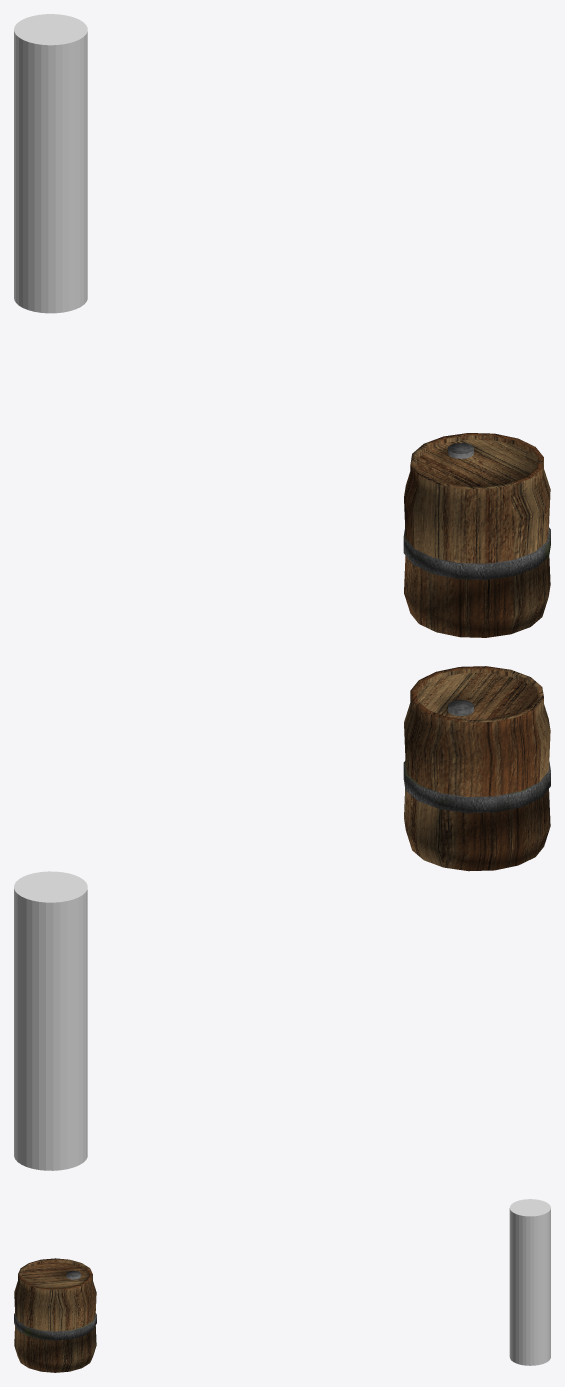
Rendered from barrell.glb.
3 views of the same model, one above another, from view 1: azimuth 30°, elevation 25°; view 2: azimuth 150°, elevation 25°; view 3: azimuth 270°, elevation 25° (orthographic). The views are drawn at different scales.
Parts seen in each view (by area): view 1: Barrel, Ref -noimp; view 2: Barrel, Ref -noimp; view 3: Barrel, Ref -noimp.
Part boxes in pixels (bbox=[...]): Barrel: bbox=[403, 433, 550, 637]; Ref -noimp: bbox=[14, 14, 87, 313]; Barrel: bbox=[403, 666, 550, 871]; Ref -noimp: bbox=[14, 871, 87, 1170]; Barrel: bbox=[14, 1258, 96, 1372]; Ref -noimp: bbox=[509, 1199, 550, 1365].
Size of what is drawn, in the model's own units: 1.01 by 2 by 6.52.
3 materials, 3 textured.
